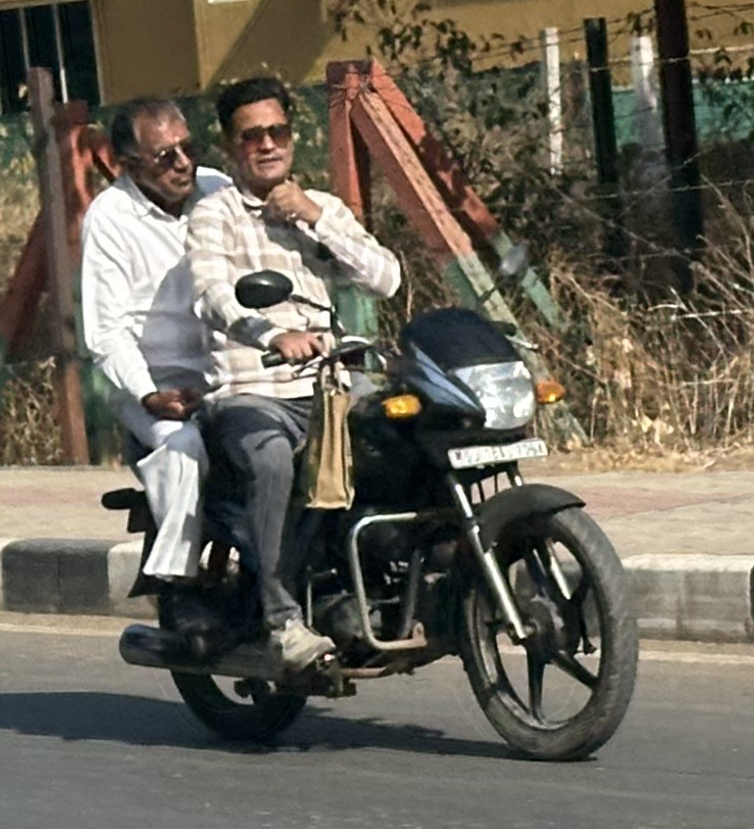BikeWithRider: (68, 73, 645, 761)
NoHelmet: (114, 88, 202, 205), (214, 76, 299, 182)
